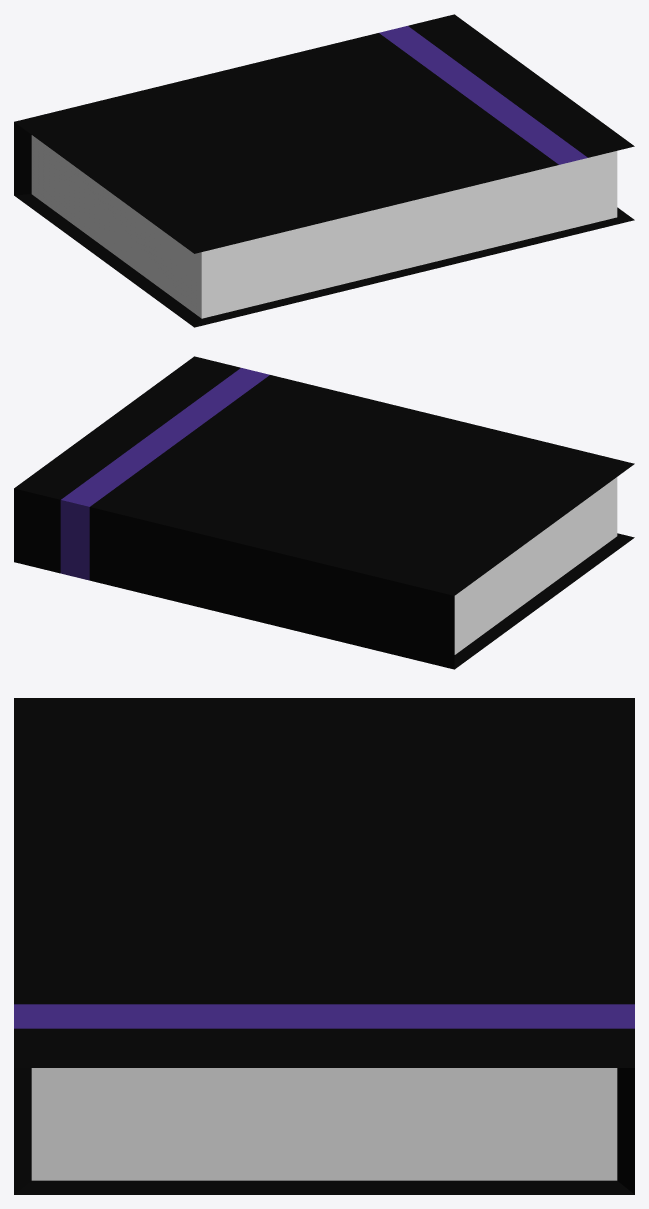
The model's file is book 3.fbx.
The picture shows the model from 3 angles, top to bottom: view 1: azimuth 30°, elevation 25°; view 2: azimuth 150°, elevation 25°; view 3: azimuth 270°, elevation 25°; orthographic projection. The views are drawn at different scales.
Parts seen in each view (by area): view 1: polySurface1268; view 2: polySurface1268; view 3: polySurface1268.
Part boxes in pixels (left/top/right/bottom): polySurface1268: left=14, top=14, right=634, bottom=327; polySurface1268: left=14, top=356, right=634, bottom=669; polySurface1268: left=14, top=698, right=634, bottom=1194.
Size of the model in its own units: 1054 by 169 by 748.
